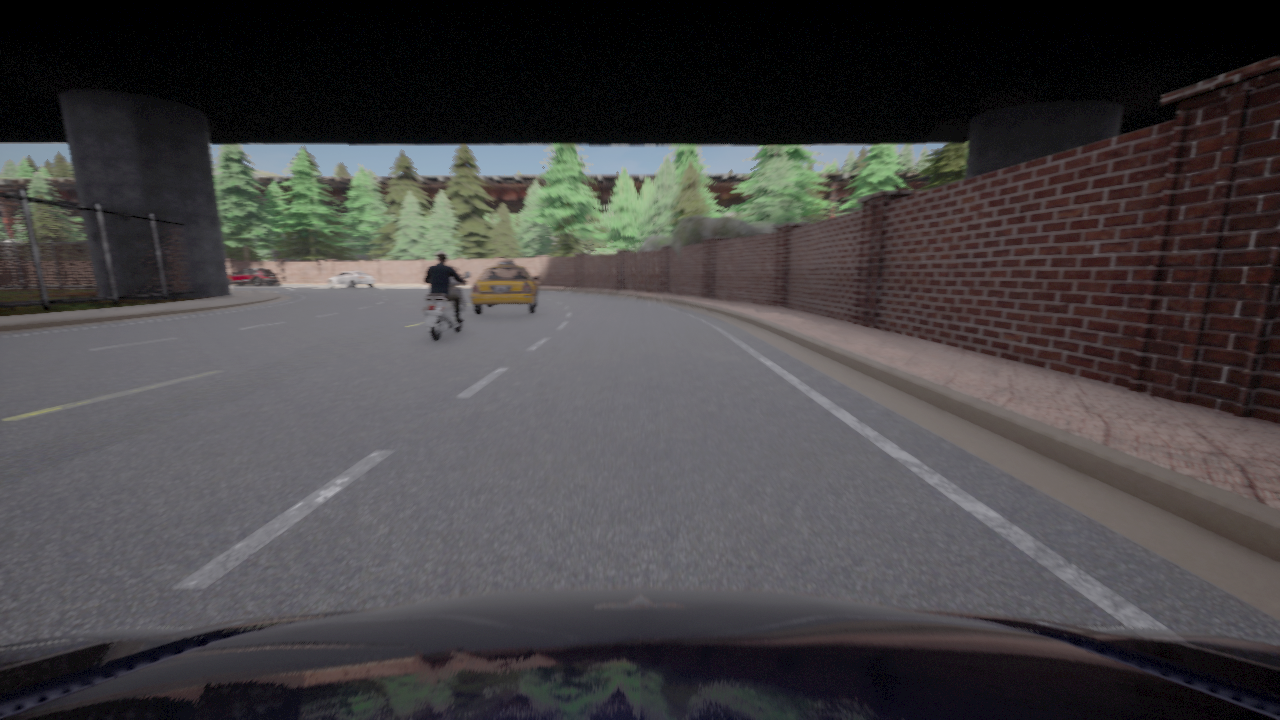cyclist: (0, 588, 1279, 719), (470, 261, 538, 314), (423, 272, 469, 341), (327, 270, 375, 287), (229, 269, 277, 285)
